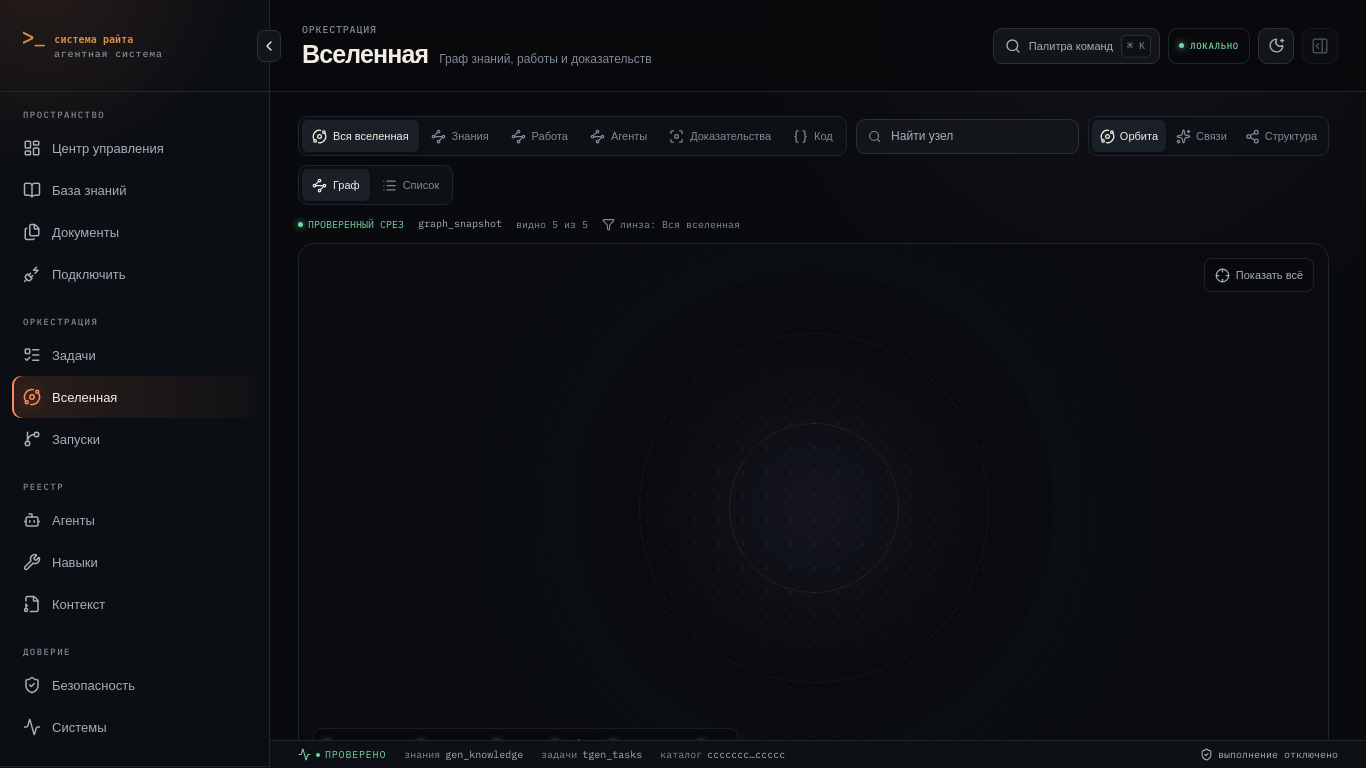
Test case: raytsystem control plane › renders the missing code-graph state and blocks traversal
Click the button "Код": (813, 136) [783,120,843,152]
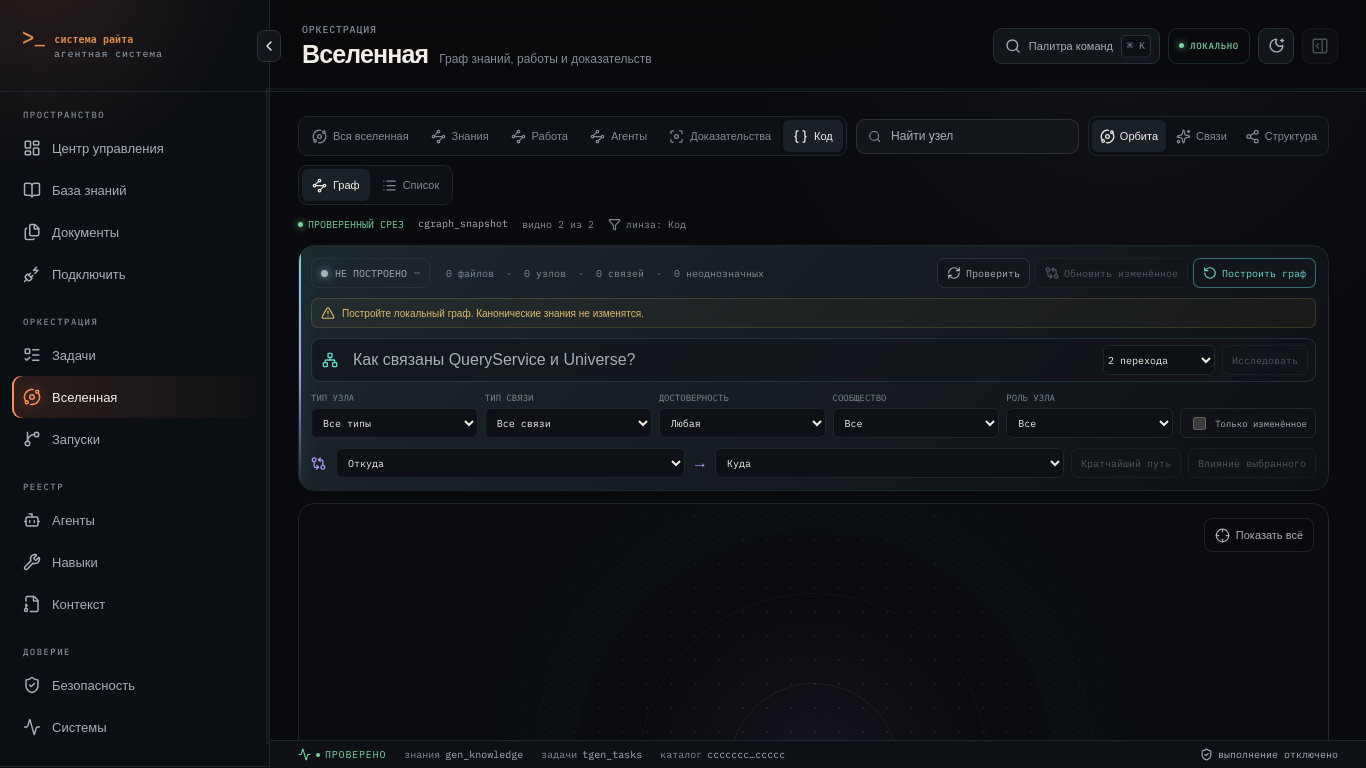
Expected: the text "Не построено" is shown, [335,266,407,280]
Expected: the button "Исследовать" is disabled, [1222,345,1308,375]
